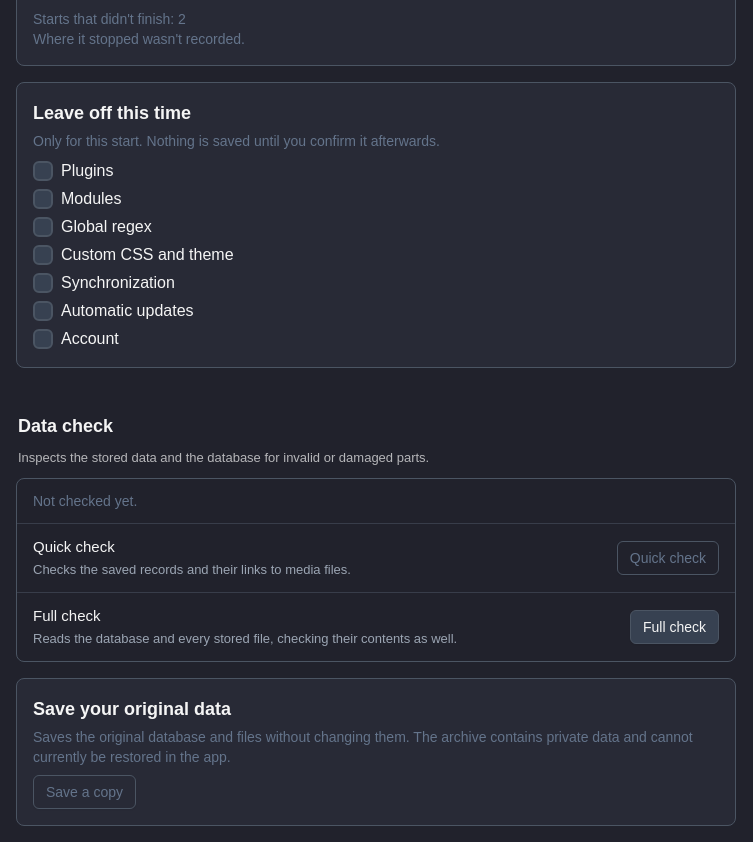
RecoveryShell › uses the shared runtime-independent route for original data export
The image size is (753, 842).
(page scrolled)
Click the button "Save a copy".
click(85, 792)  # box [33,774,136,808]
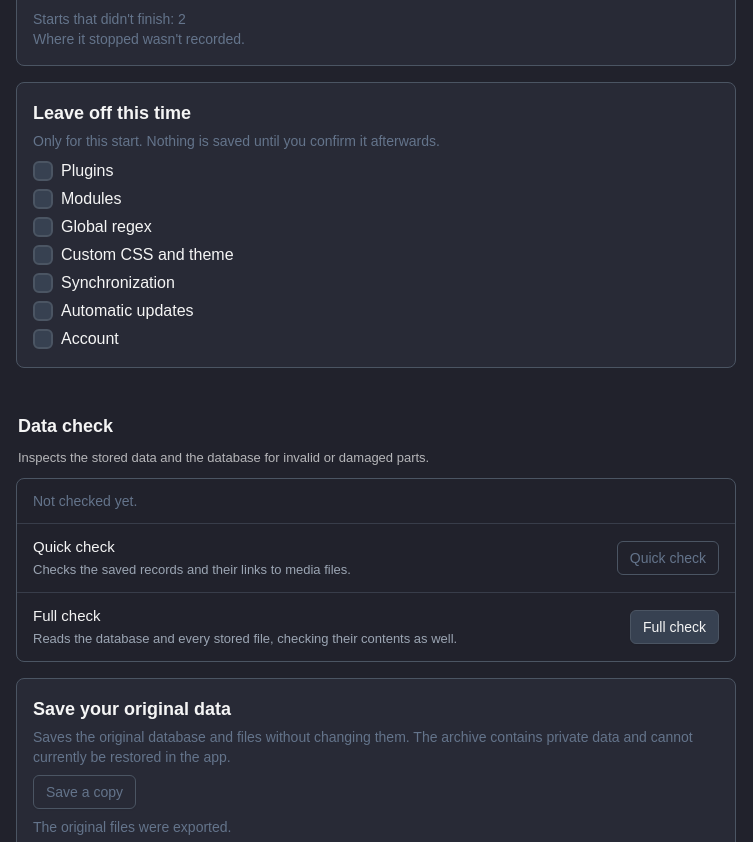
Expected: the element that starts with "Save your original data" shows "The original files were exported.", [33,818,231,834]
